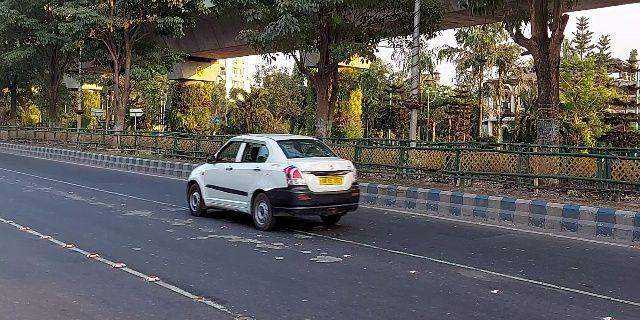Car: (185, 129, 362, 235)
